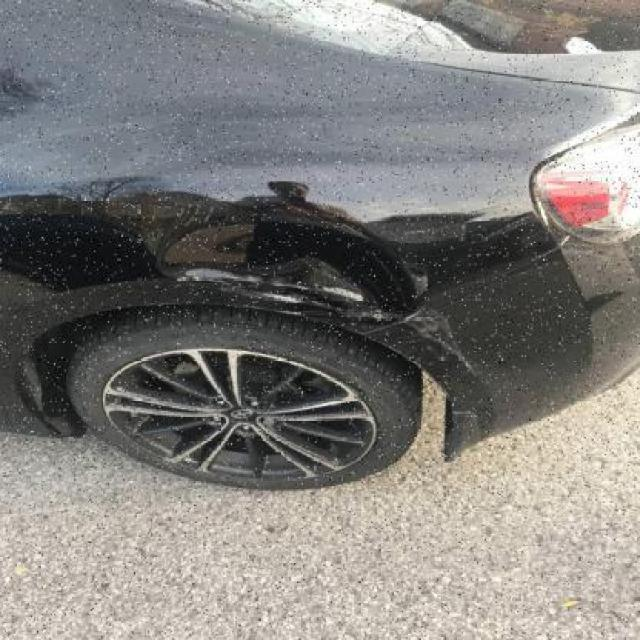quaterpanel-dent: (0, 177, 537, 405)
